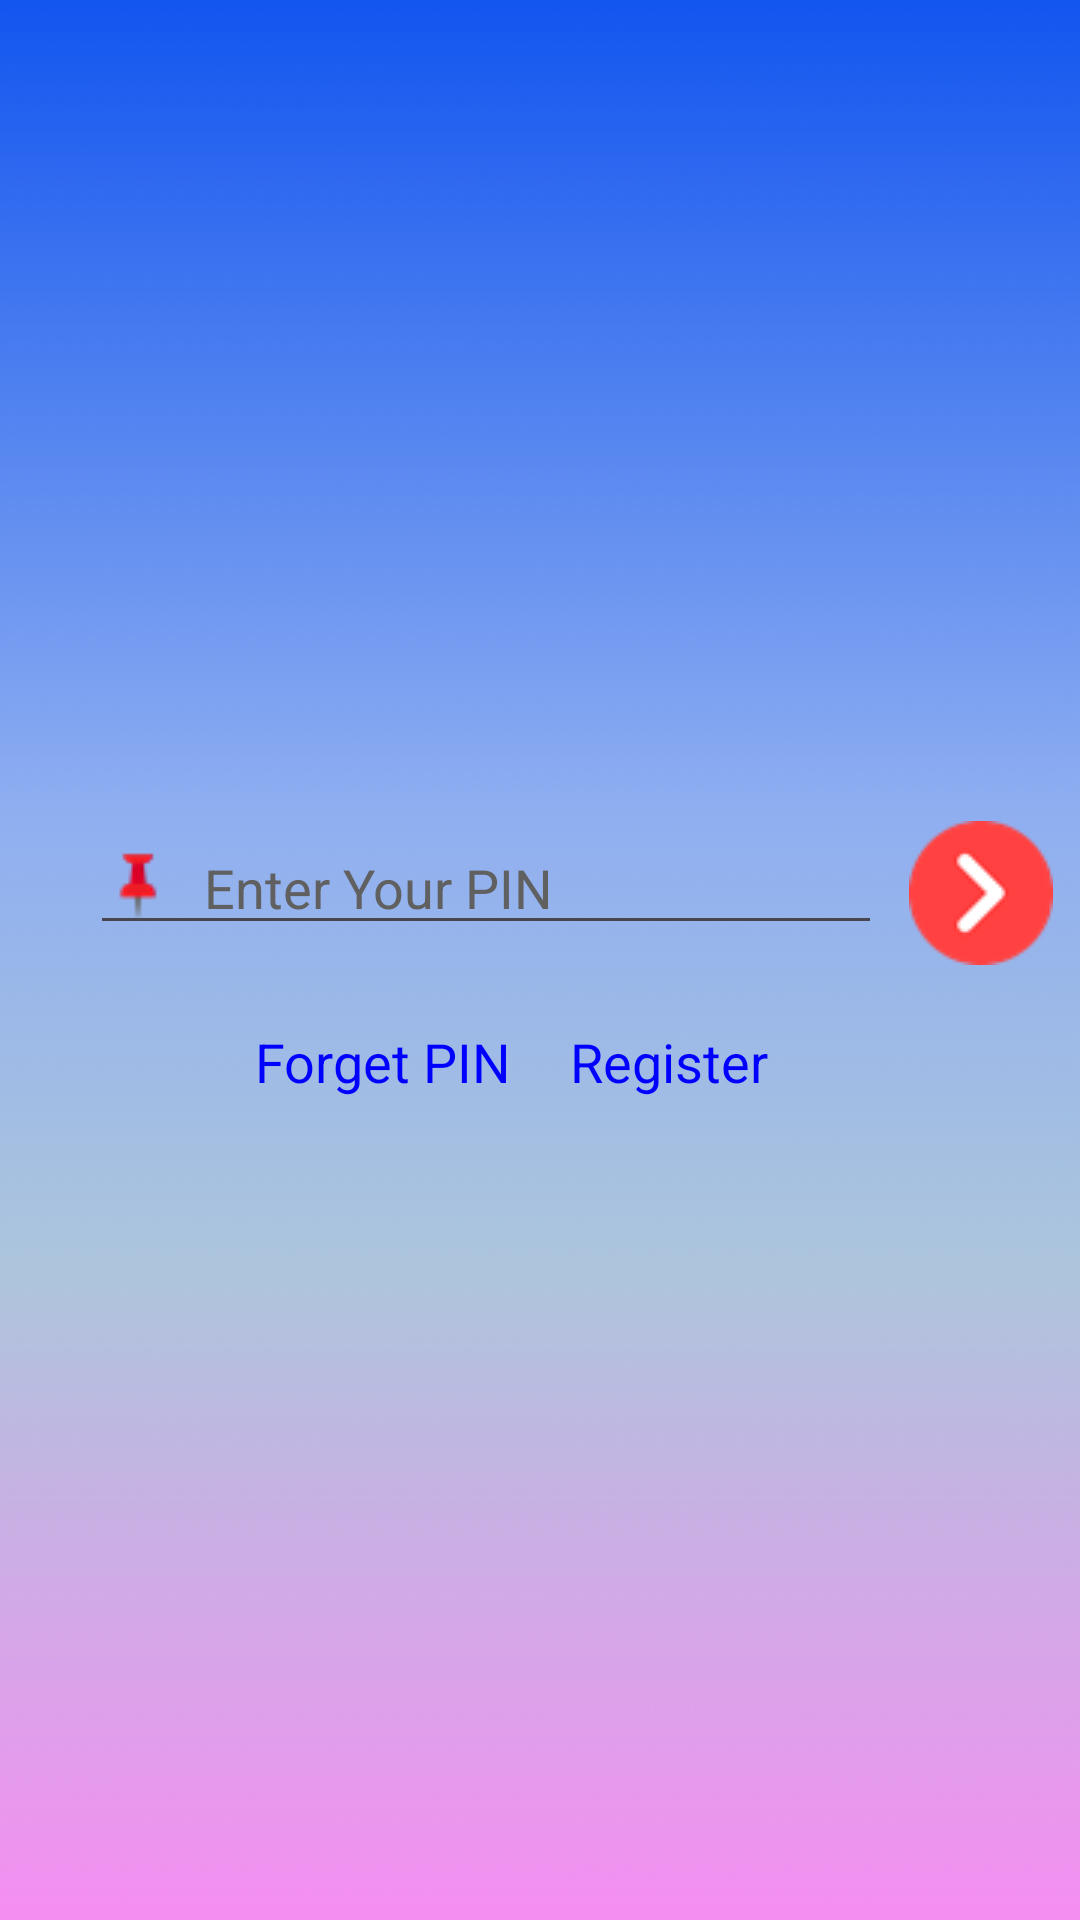

Screen size 1080×1920. Icon name, then its box in pixels as (x1, y1, x2, y2):
right arrow: (909, 821, 1053, 965)
